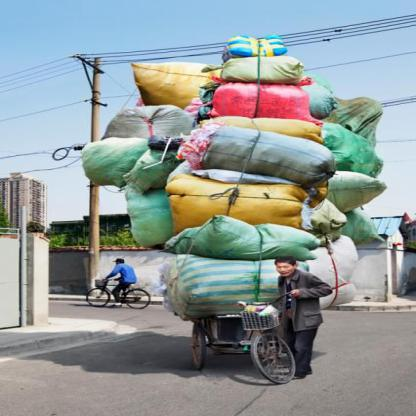overloaded-truck: (59, 27, 382, 327)
